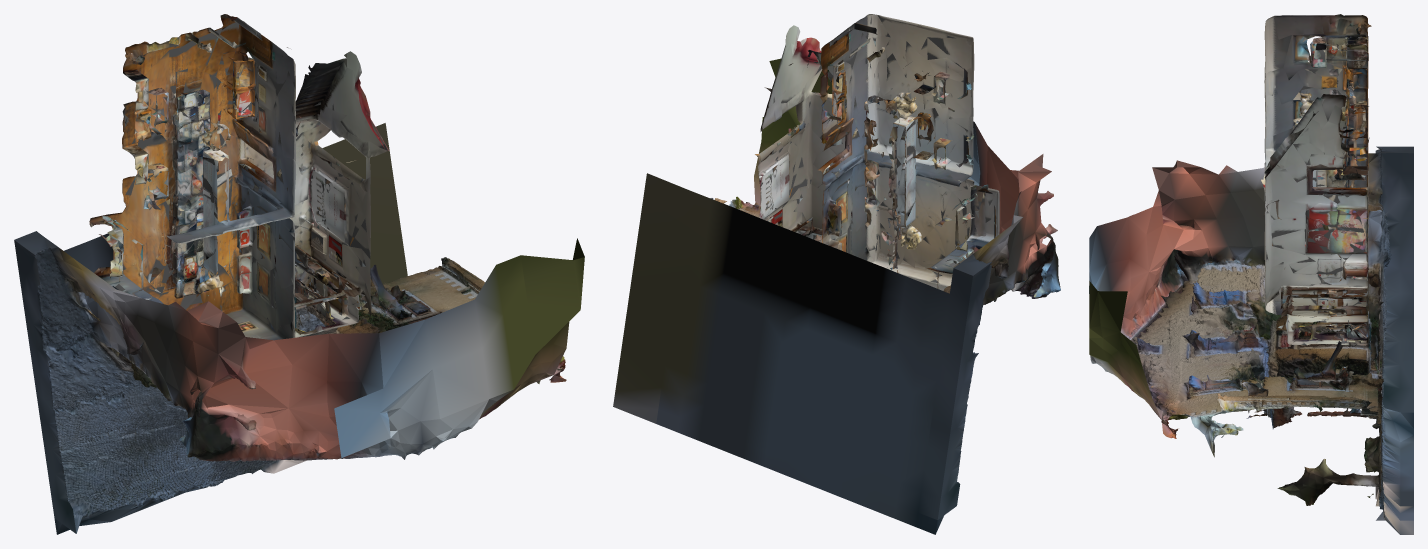
The model's file is room-mesh-mobile.glb.
The picture shows the model from 3 angles, left to right: view 1: azimuth 30°, elevation 25°; view 2: azimuth 150°, elevation 25°; view 3: azimuth 270°, elevation 25°; orthographic projection. The views are drawn at different scales.
Parts seen in each view (by area): view 1: videodan_Model_5, mesh; view 2: videodan_Model_5, mesh; view 3: videodan_Model_5, mesh.
Part boxes in pixels (left/top/right/bottom): videodan_Model_5: left=14, top=123, right=584, bottom=534; mesh: left=89, top=14, right=389, bottom=340; videodan_Model_5: left=613, top=58, right=1060, bottom=534; mesh: left=755, top=14, right=999, bottom=290; videodan_Model_5: left=1089, top=146, right=1413, bottom=534; mesh: left=1261, top=14, right=1371, bottom=345.
Bounding box in the file's own units: 18.02 × 21.01 × 14.12.
2 materials, 1 textured.
